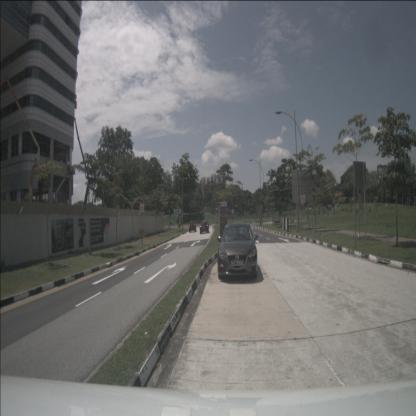vehicle-car: (218, 222, 258, 280), (200, 221, 209, 233), (188, 221, 197, 232)
